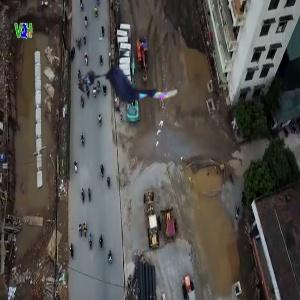drone: (93, 41, 177, 125)
